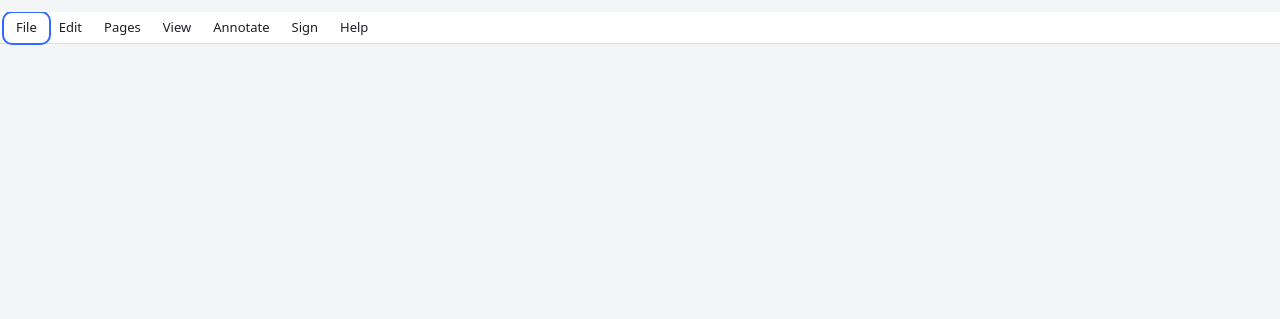
MenuBar › slides the open menu on hover without moving focus off the row being read
The width and height of the screenshot is (1280, 319).
Click the menu item "File": point(26, 28) [6,14,47,40]
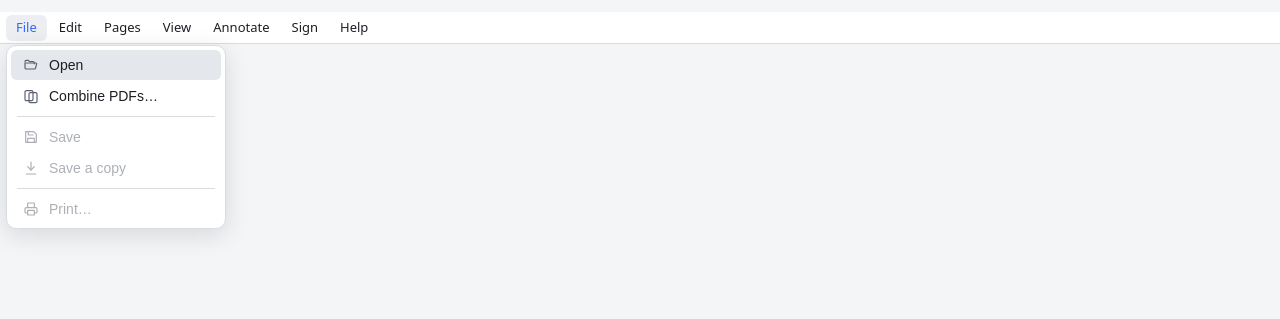
Hover over the menu item "Edit": point(70, 28) [49,14,92,40]
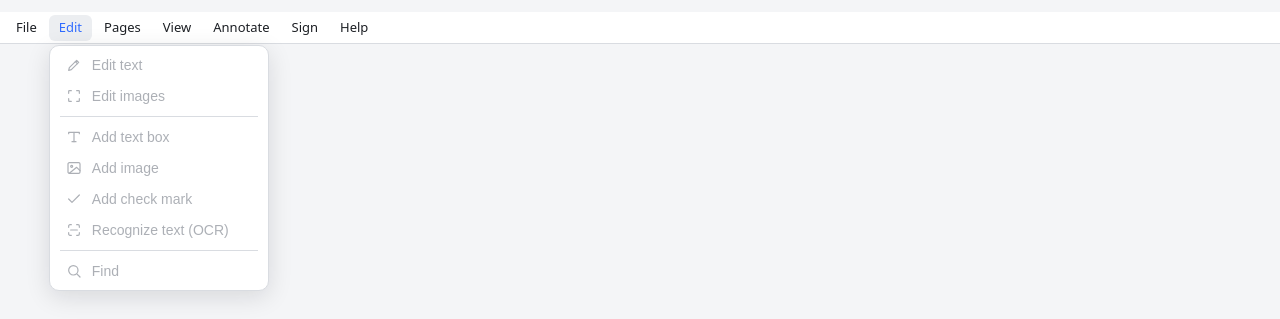
Expected: the menu item "Edit" is expanded, [49,14,92,40]
Expected: the menu item "File" is collapsed, [6,14,47,40]
